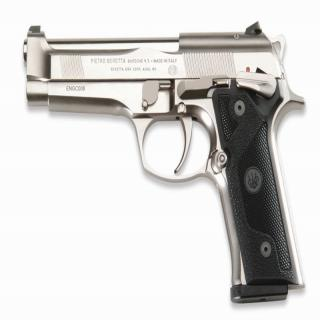gun: (18, 13, 314, 311)
